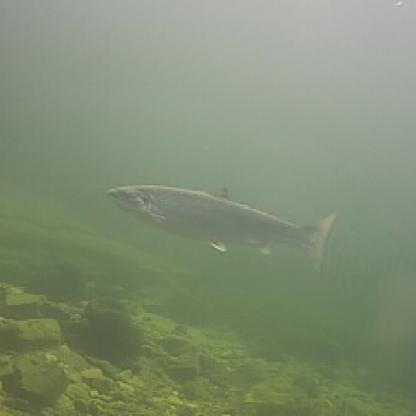salmon: (101, 175, 340, 272)
